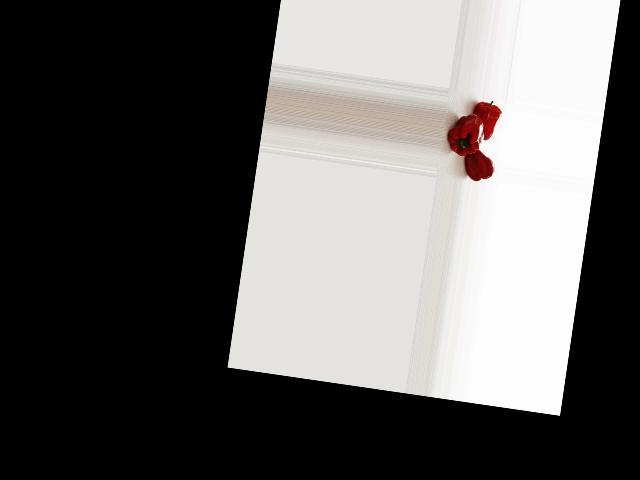bell_pepper: (460, 150, 496, 185)
